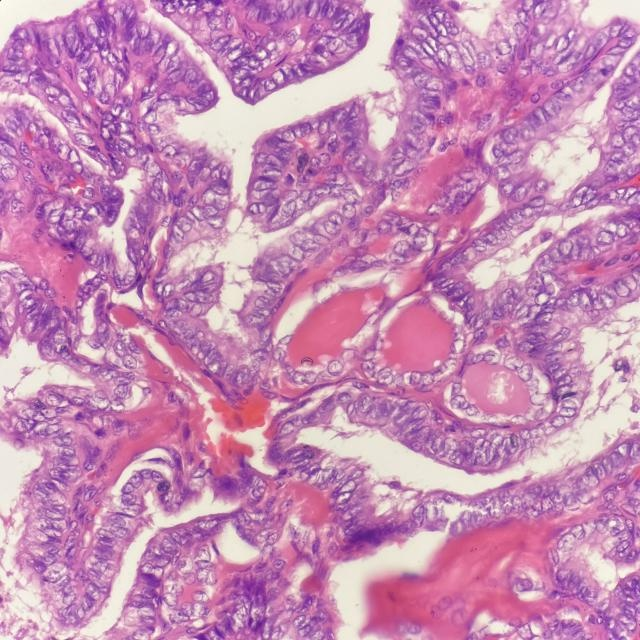TC: (189, 262, 226, 290), (272, 196, 300, 226), (323, 355, 350, 384), (334, 197, 364, 223), (387, 236, 415, 261), (152, 243, 180, 267), (332, 475, 360, 499), (255, 163, 284, 185), (247, 292, 282, 310), (140, 158, 164, 183), (241, 201, 269, 222), (195, 266, 223, 286), (113, 352, 141, 372), (238, 310, 269, 328), (197, 184, 218, 210), (112, 379, 134, 403), (285, 243, 306, 267), (483, 344, 504, 368), (308, 231, 334, 248), (172, 214, 193, 235), (185, 301, 207, 321), (332, 389, 356, 407), (156, 142, 176, 163), (204, 216, 228, 232), (83, 480, 99, 504), (116, 490, 141, 505), (118, 267, 137, 286), (151, 468, 169, 488), (127, 467, 141, 492), (96, 398, 112, 415)
